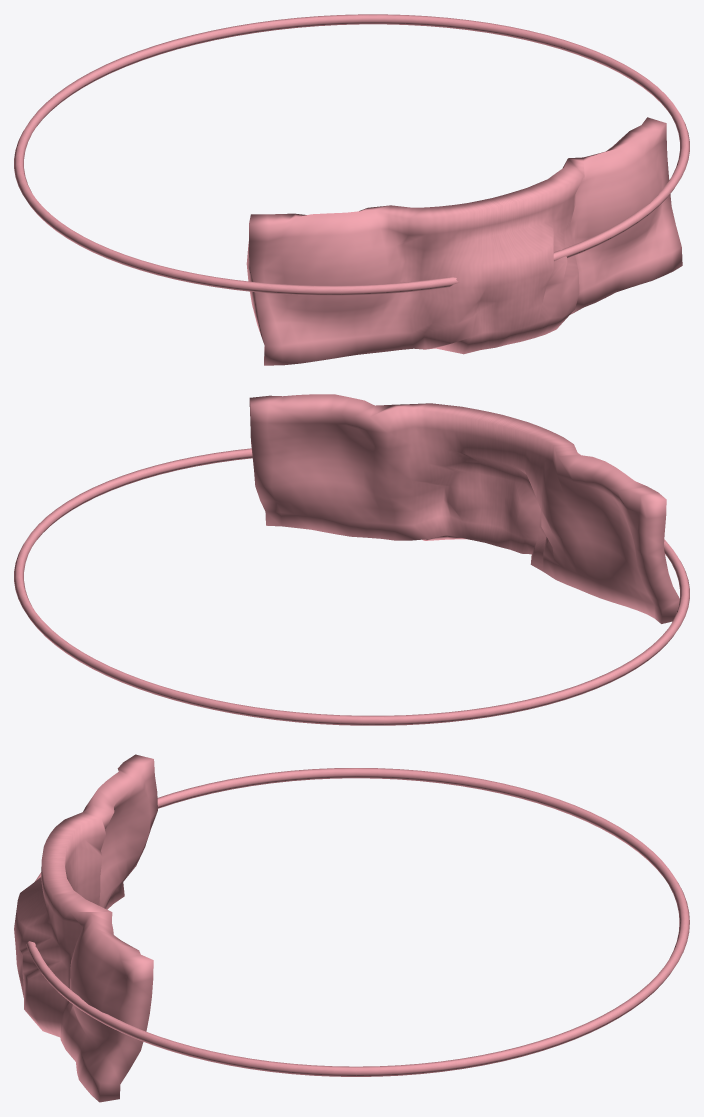
Rendered from restart_mask_sleep_pig.glb.
The picture shows the model from 3 angles, top to bottom: view 1: azimuth 30°, elevation 25°; view 2: azimuth 150°, elevation 25°; view 3: azimuth 270°, elevation 25°; orthographic projection. The views are drawn at different scales.
Parts seen in each view (by area): view 1: Máscara mullida.002, Cinta elástica.005; view 2: Máscara mullida.002, Cinta elástica.005; view 3: Máscara mullida.002, Cinta elástica.005.
Part boxes in pixels (x1,y1,x2,y2): Máscara mullida.002: (246,117,682,365); Cinta elástica.005: (14,14,689,295); Máscara mullida.002: (249,394,679,623); Cinta elástica.005: (14,448,689,725); Máscara mullida.002: (14,754,157,1102); Cinta elástica.005: (26,768,689,1076).
Size of the model in its own units: 0.82 by 0.1875 by 0.7726.
2 materials, 2 textured.
